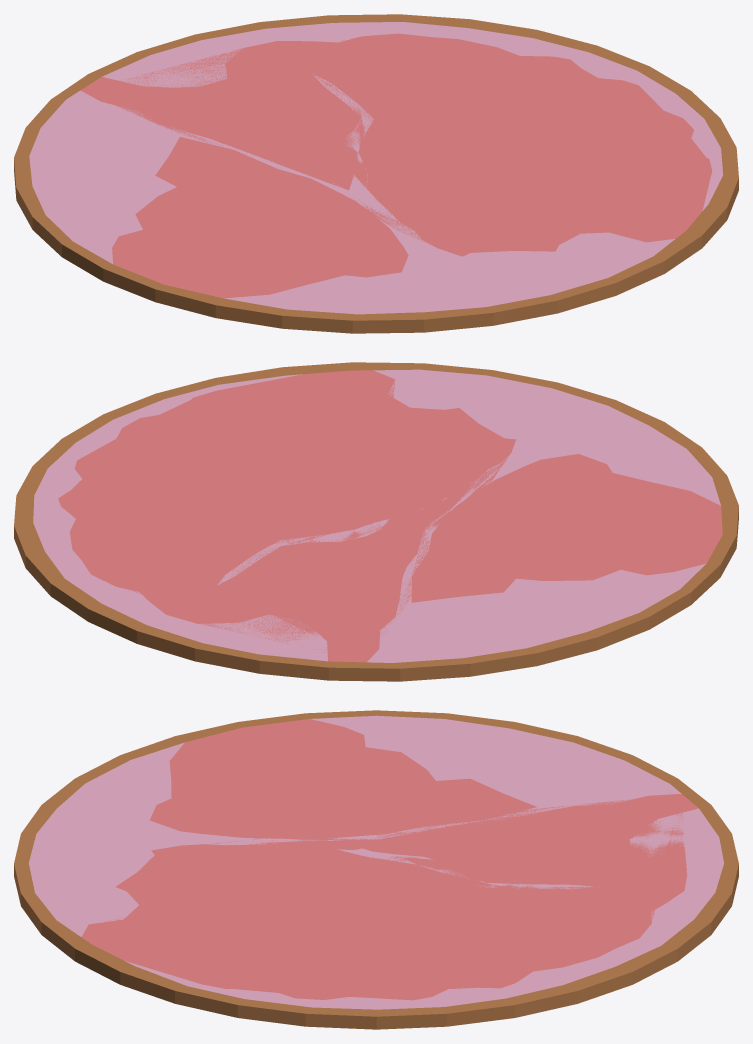
Rendered from Ham.fbx.
3 renders of one model, top to bottom at view 1: azimuth 30°, elevation 25°; view 2: azimuth 150°, elevation 25°; view 3: azimuth 270°, elevation 25°, orthographic.
Parts seen in each view (by area): view 1: Circle; view 2: Circle; view 3: Circle.
Boxes of the visible parts, <box> form: Circle: <box>14,14,738,333</box>; Circle: <box>14,362,738,681</box>; Circle: <box>14,710,738,1029</box>.
Size of the model in its own units: 200 by 3.94 by 200.
